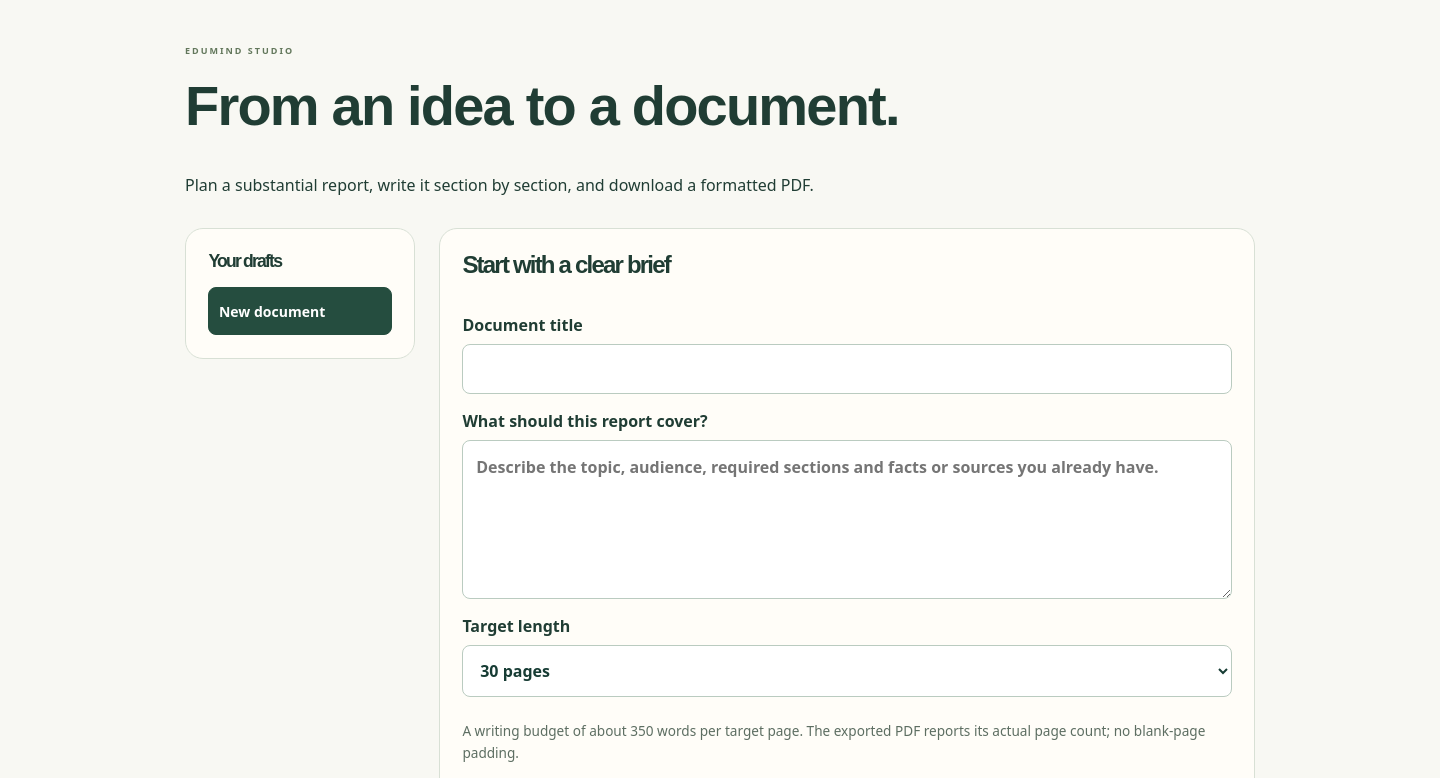
creates a long-form draft with the user's outline and page target
Step 1. Type "Mechanics" into the field labelled "Document title" → [847, 369], box 462,344 -> 1232,394
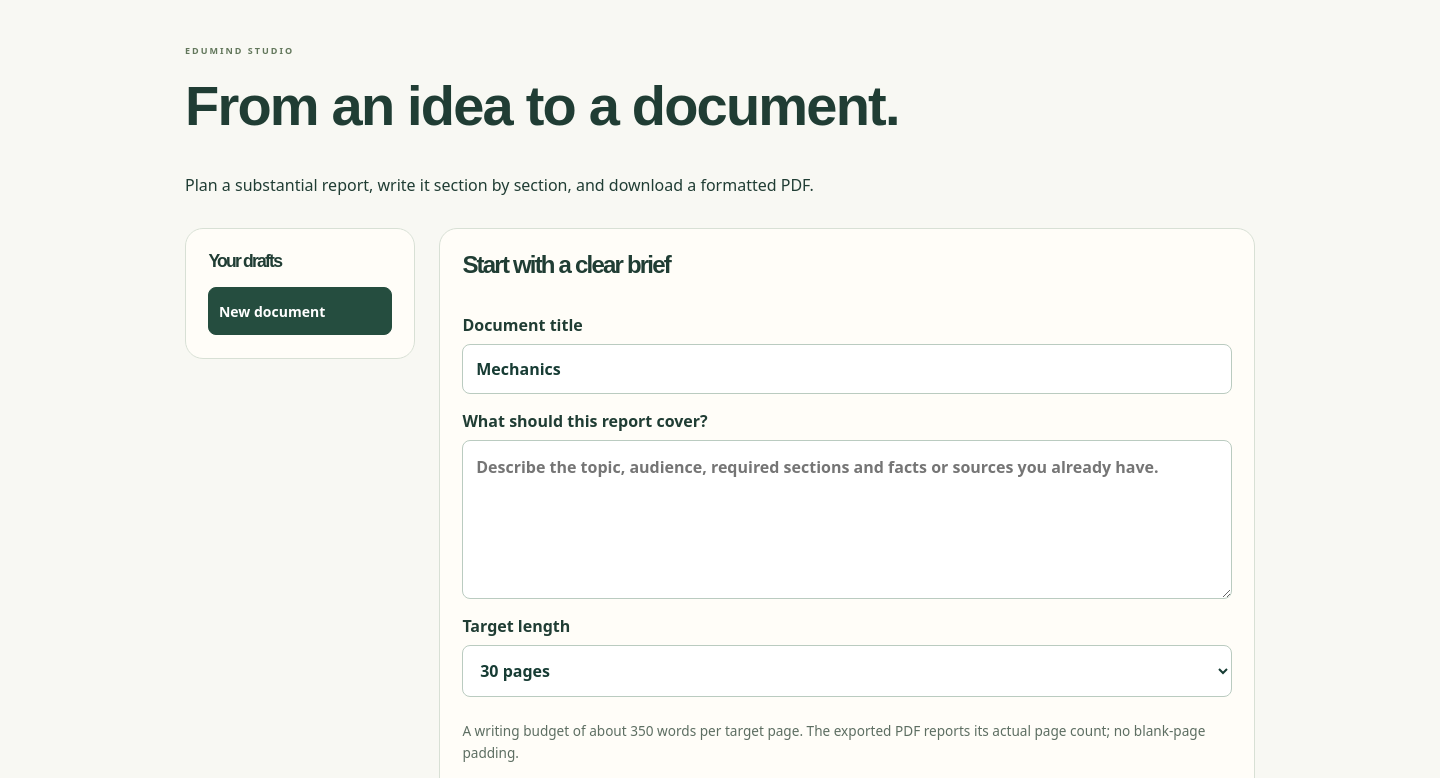
Step 2. Replace the text in the text box labelled "What should this report cover?" with "Explain forces and motion with examples." → [847, 520], box 462,440 -> 1232,599
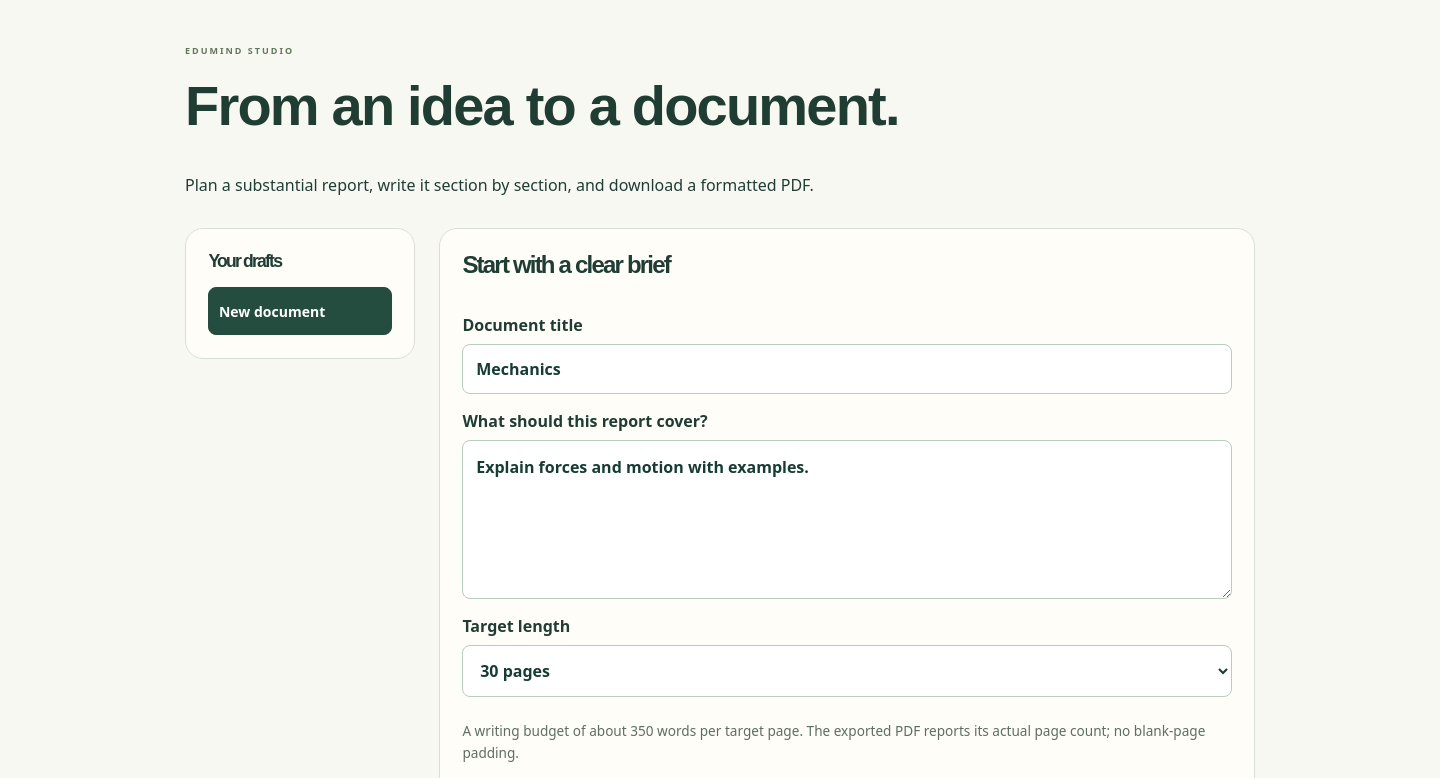
Step 3. Select "45 pages" in the dropdown labelled "Target length" → [847, 671], box 462,645 -> 1232,697
(page scrolled)
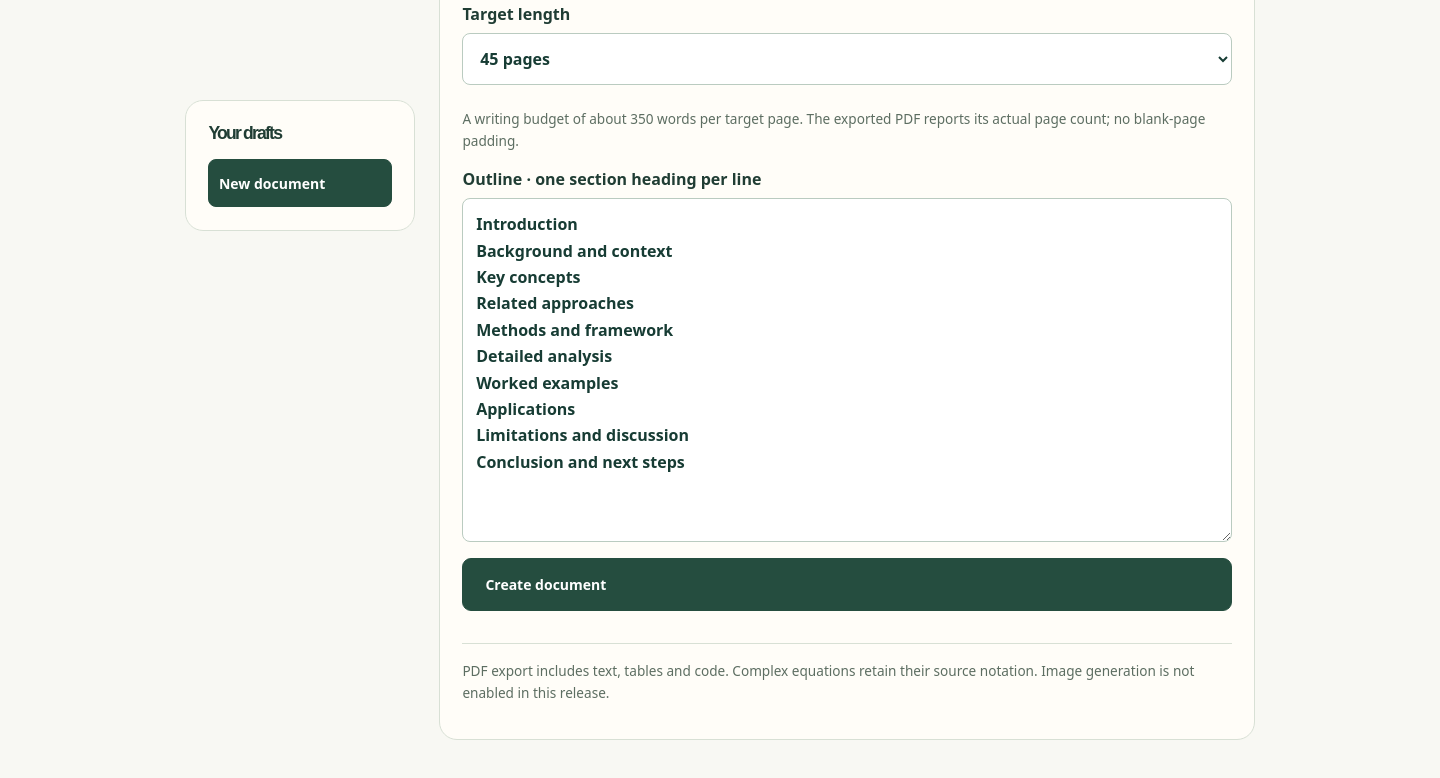
Expected: the text "actual page count" is shown, 462,109 -> 1205,150
Step 4. Click the button "Create document" → [546, 584], box 462,558 -> 1232,611
(page scrolled)
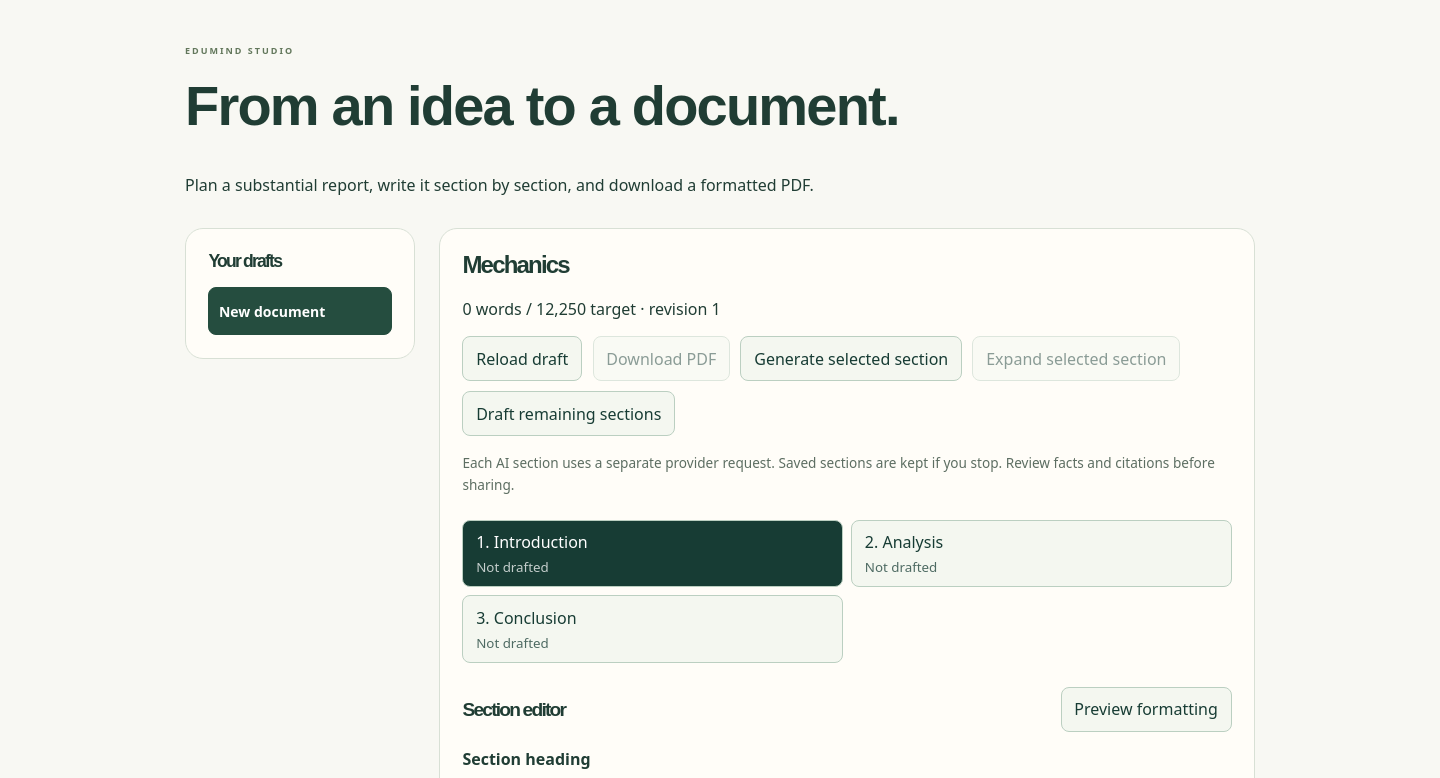
Result: the heading "Mechanics" is shown at 462,250 -> 569,278
Result: the button "Download PDF" is disabled at 592,336 -> 730,381
